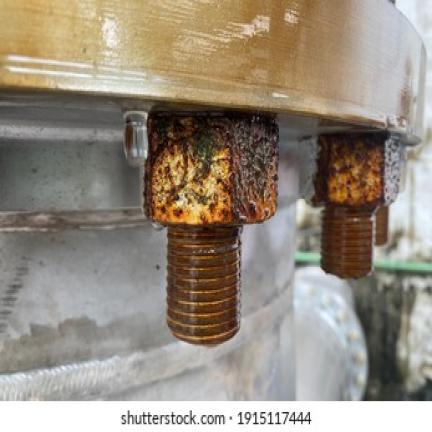karat: (144, 105, 283, 351)
